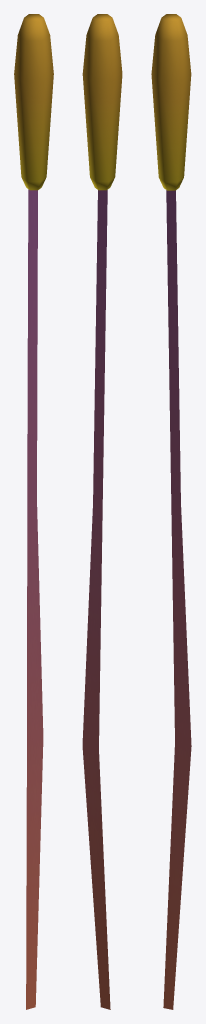
The model's file is Flower03.fbx.
The picture shows the model from 3 angles, left to right: view 1: azimuth 30°, elevation 25°; view 2: azimuth 150°, elevation 25°; view 3: azimuth 330°, elevation 25°; orthographic projection.
Parts seen in each view (by area): view 1: Flower04; view 2: Flower04; view 3: Flower04.
Part boxes in pixels (left/top/right/bottom): Flower04: left=14, top=14, right=53, bottom=1009; Flower04: left=82, top=14, right=122, bottom=1009; Flower04: left=151, top=14, right=191, bottom=1009.
Size of the model in its own units: 1.9 by 60.13 by 2.19.
